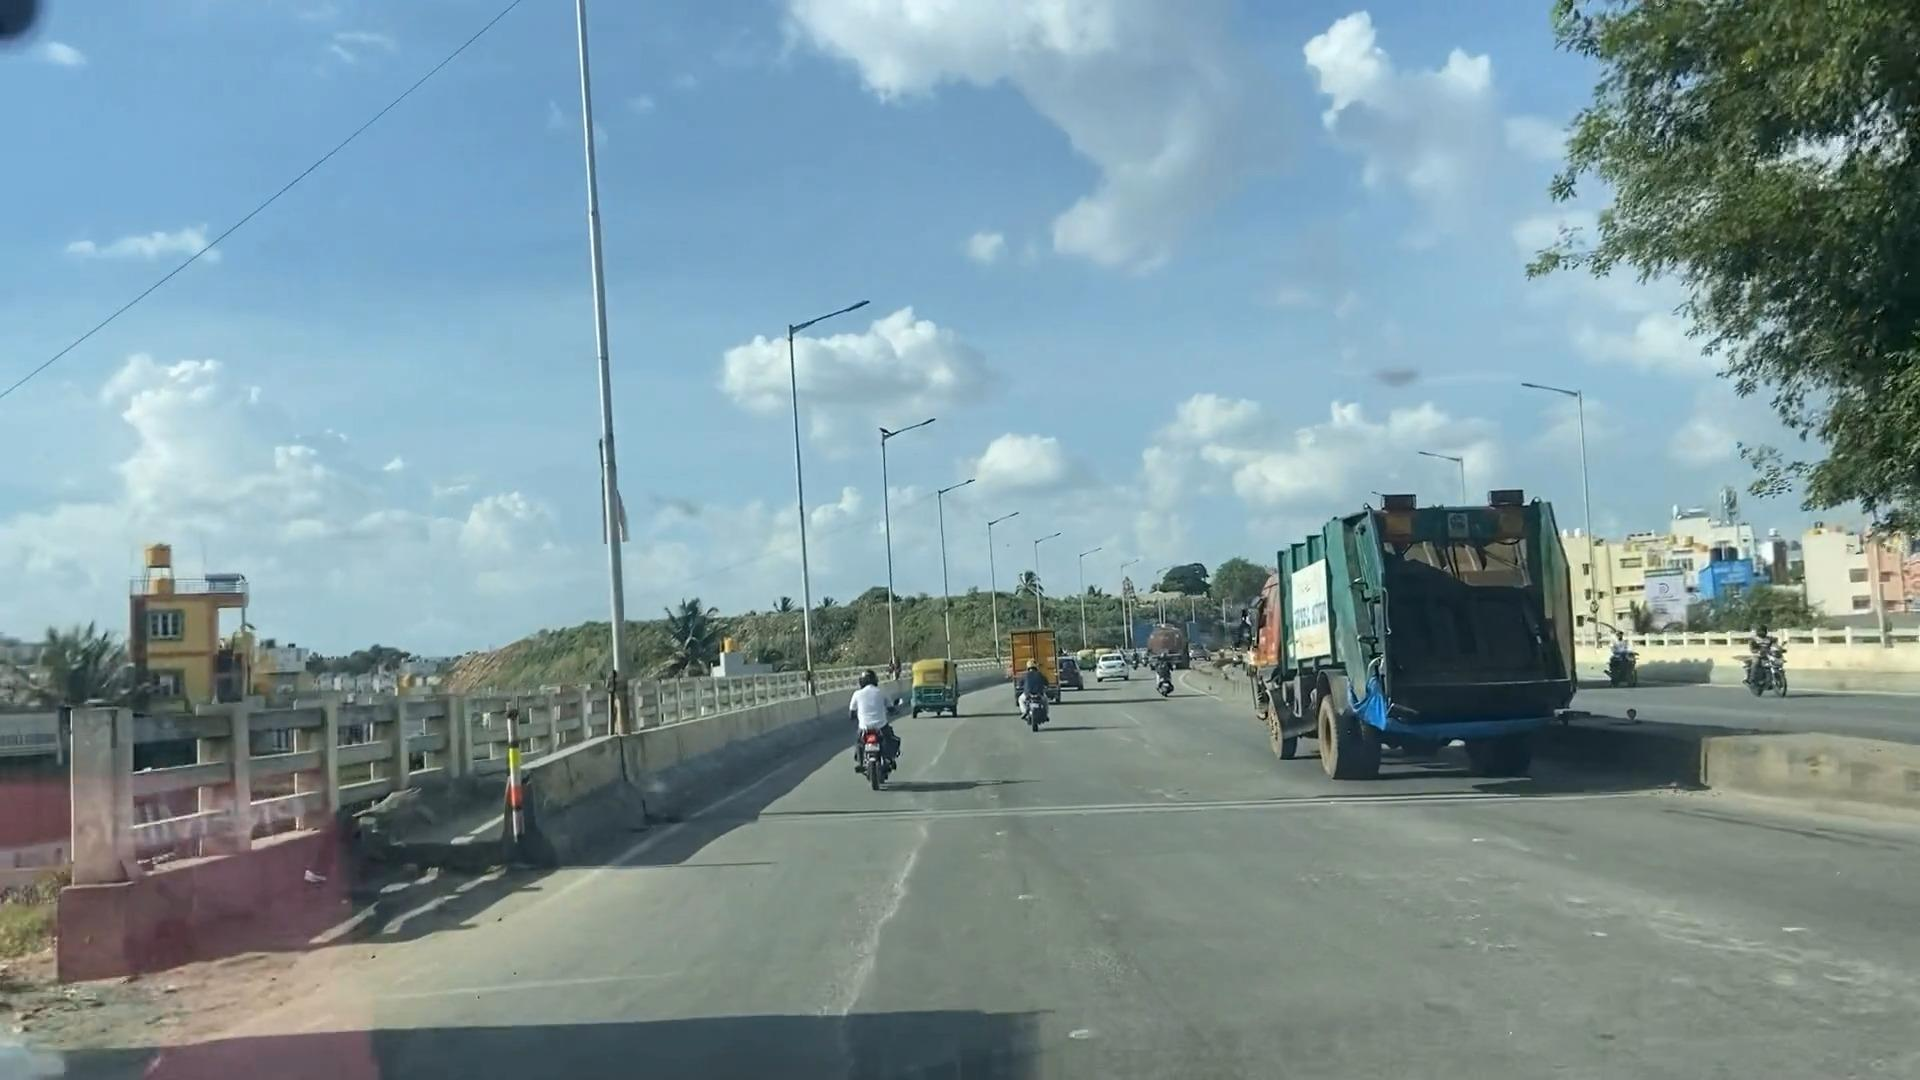HMV: (1198, 470, 1610, 790)
